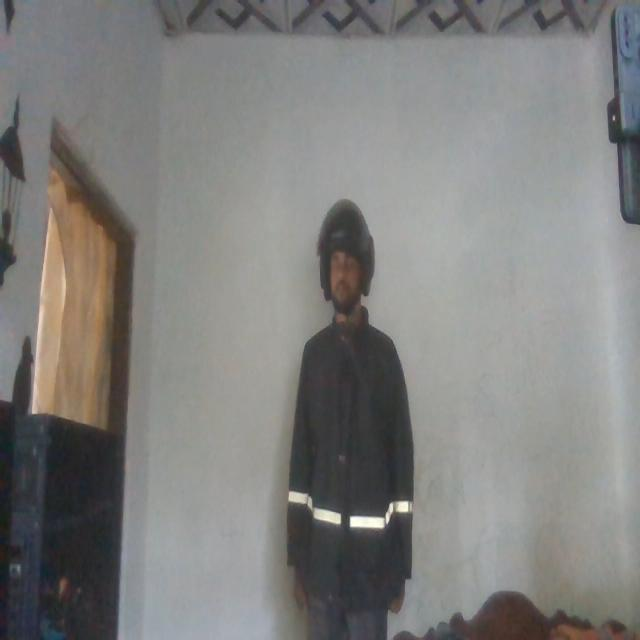Helmet_Wearer: (315, 198, 378, 326)
Jacket_Wearer: (295, 310, 413, 608)
Person: (284, 199, 420, 638)
